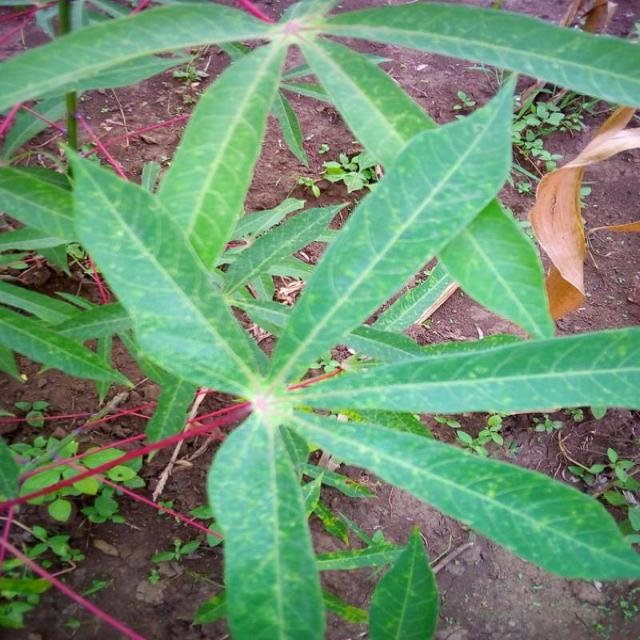cassava leaf: (2, 1, 640, 637), (269, 71, 520, 386)
